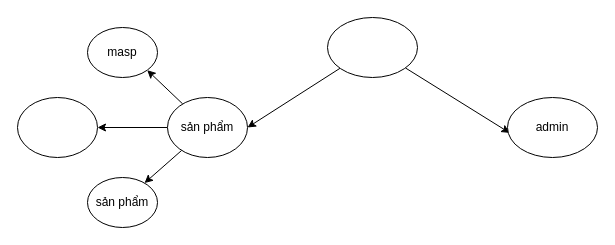
Some shapes in this 615 by 245 pixel diagram are drawn without their labels. The centre of each missing label's shape, as x and y in pixels:
tên sp: the point at 57,127
x-shop: the point at 372,47
